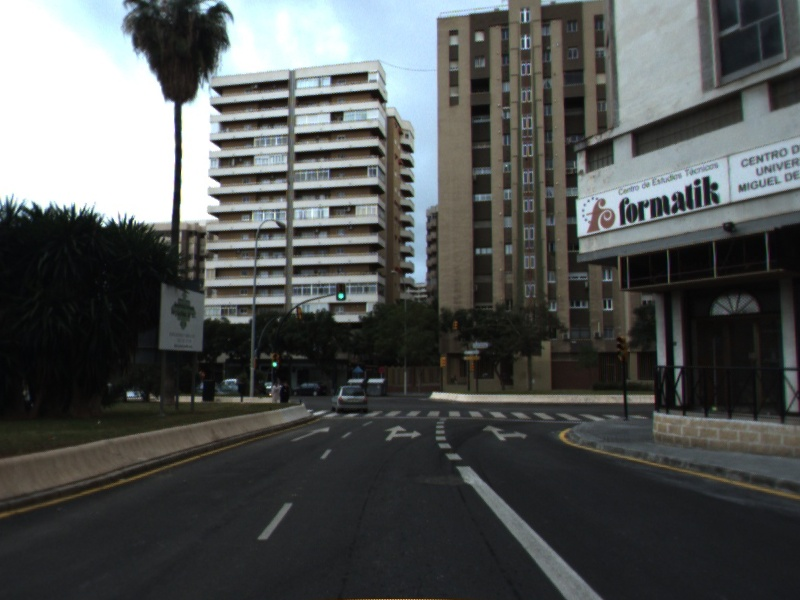STRAIGHT: (288, 425, 332, 443)
STRAIGHT_RIGHT: (480, 423, 529, 442), (382, 423, 424, 442)
